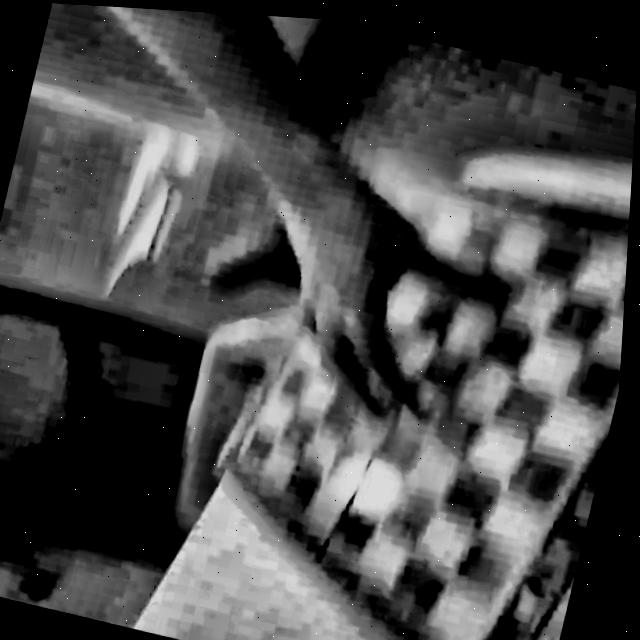chessboard: (219, 152, 629, 640)
